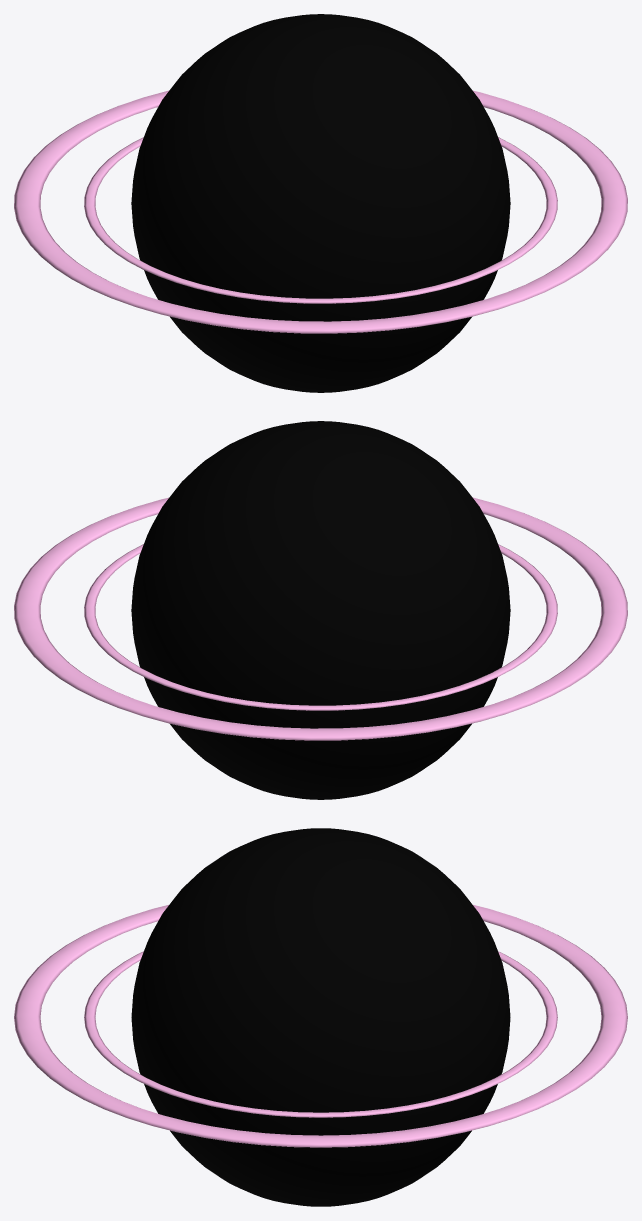
Rendered from TricksterHole.fbx.
The picture shows the model from 3 angles, top to bottom: view 1: azimuth 30°, elevation 25°; view 2: azimuth 150°, elevation 25°; view 3: azimuth 270°, elevation 25°; orthographic projection.
Parts seen in each view (by area): view 1: Sphere, Rings; view 2: Sphere, Rings; view 3: Sphere, Rings.
Part boxes in pixels (bbox=[...]): Sphere: bbox=[131, 14, 510, 392]; Rings: bbox=[14, 90, 627, 333]; Sphere: bbox=[131, 421, 510, 799]; Rings: bbox=[14, 497, 627, 740]; Sphere: bbox=[131, 828, 510, 1206]; Rings: bbox=[14, 905, 627, 1147].
Size of the model in its own units: 3.24 by 2 by 3.24.
